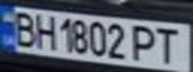0: (87, 19, 109, 57)
1: (54, 16, 75, 52)
2: (106, 20, 130, 61)
8: (69, 16, 90, 55)
B: (6, 8, 39, 47)
H: (30, 12, 57, 51)
P: (127, 22, 160, 63)
T: (151, 25, 187, 65)
